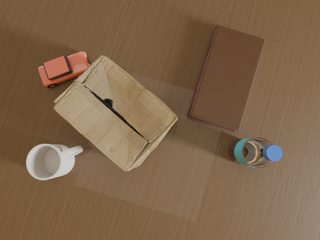book: (188, 25, 265, 132)
bottle: (229, 138, 282, 167)
box: (54, 55, 178, 171)
cup: (26, 144, 83, 180)
toy_car: (38, 51, 90, 88)
